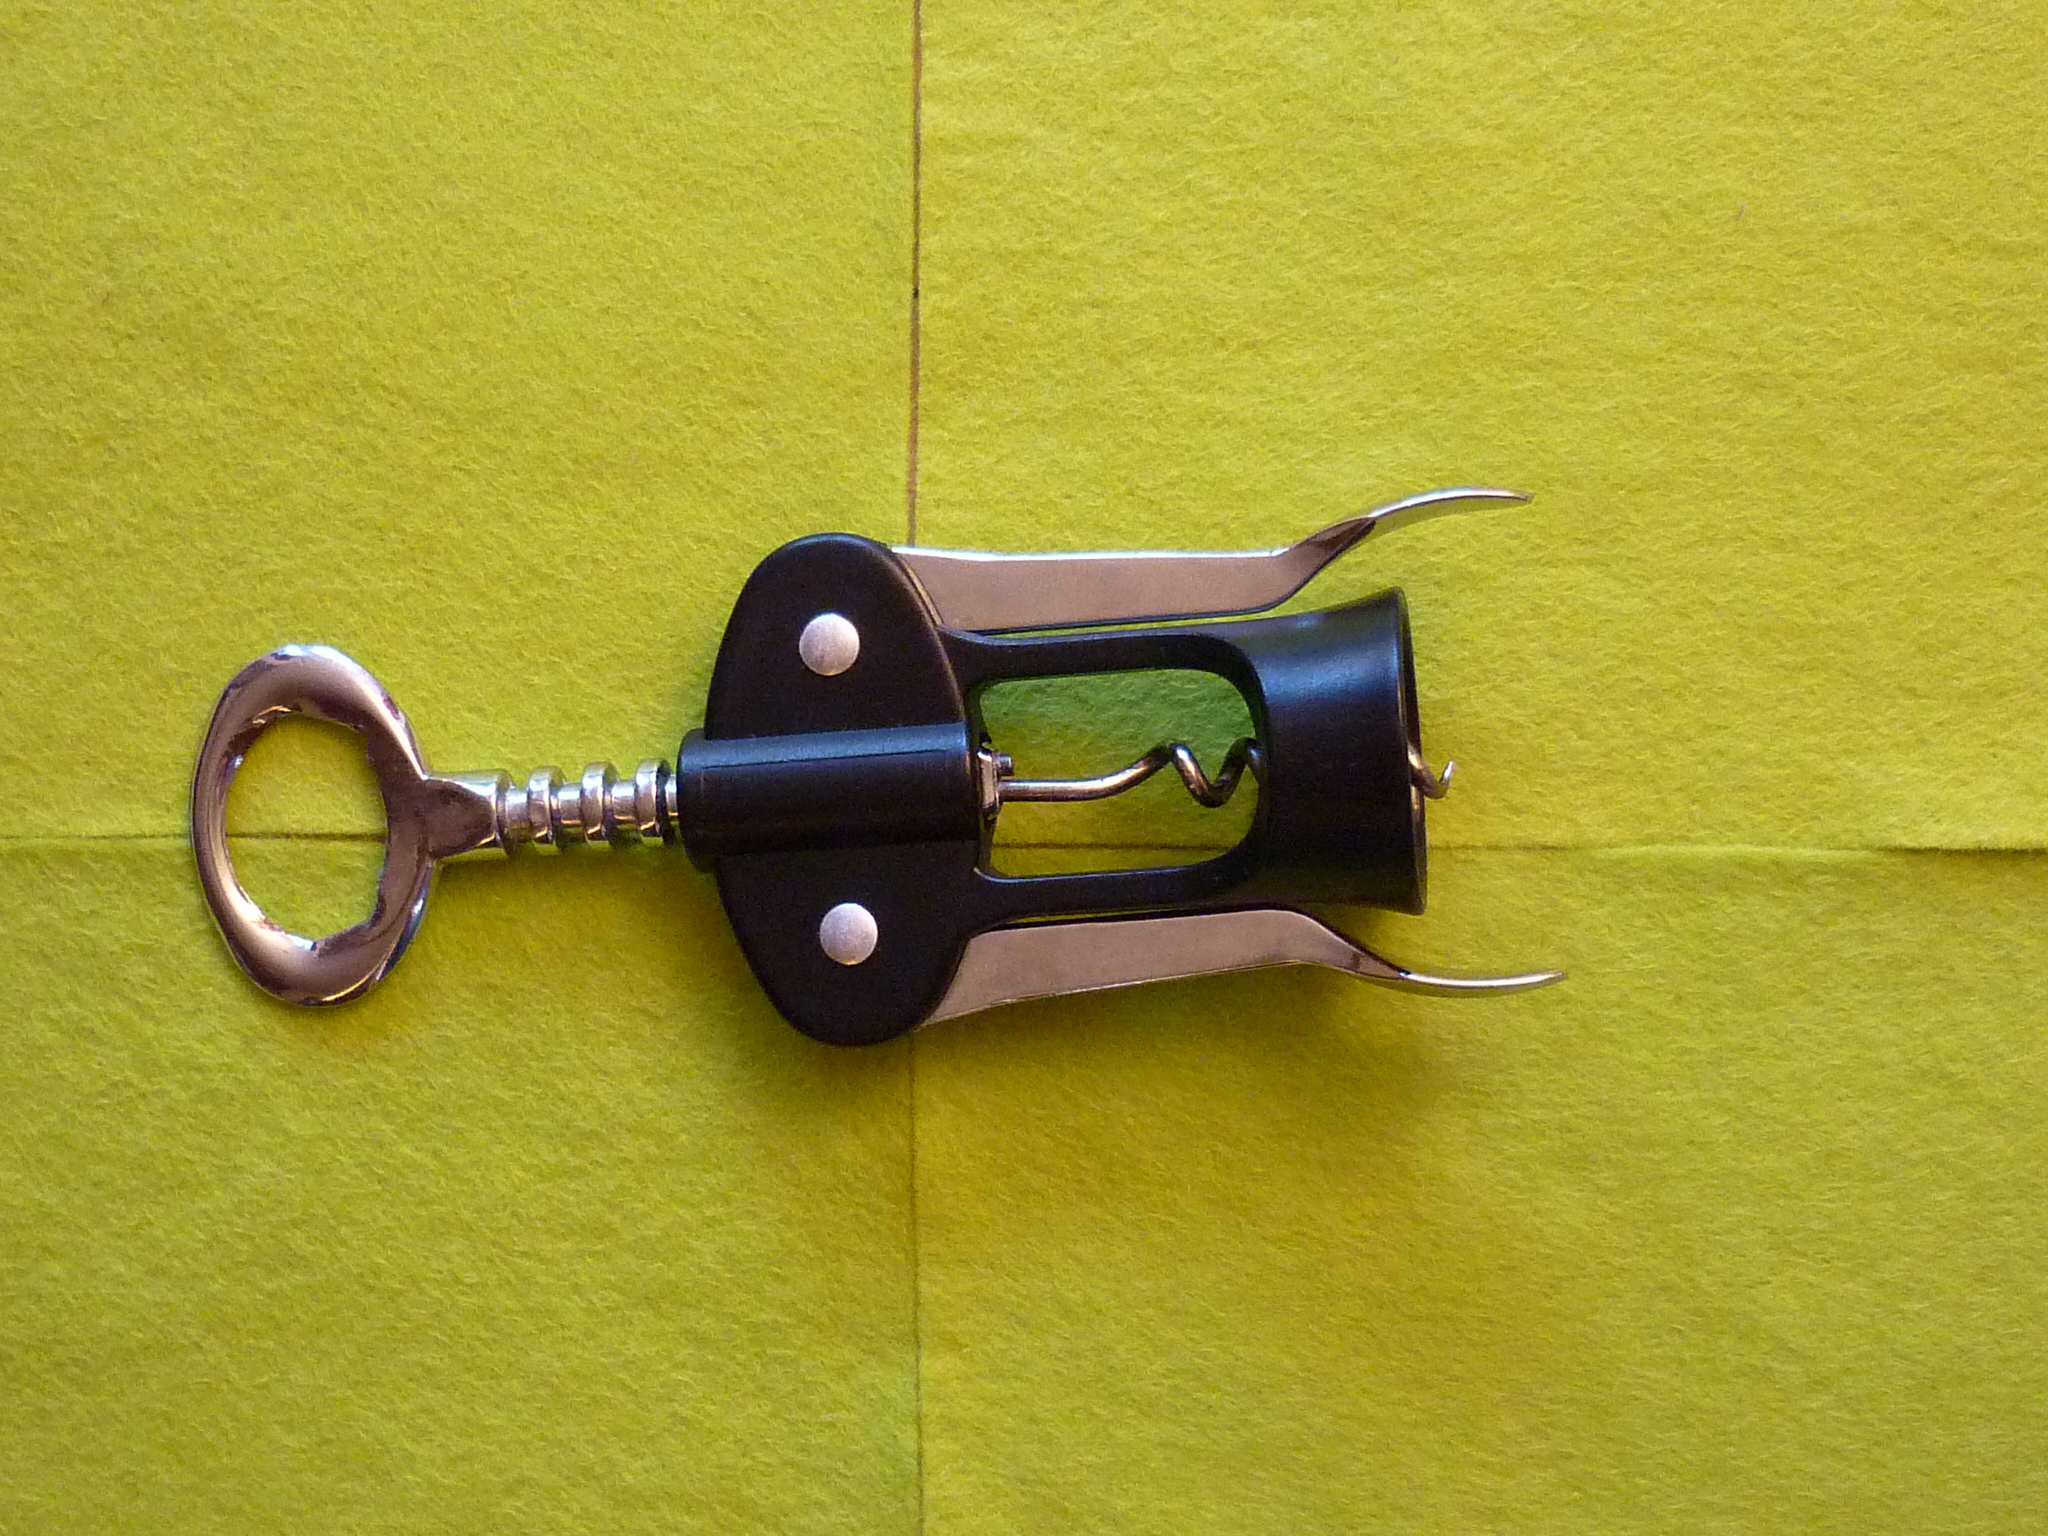bottleopener: (194, 492, 1572, 1050)
